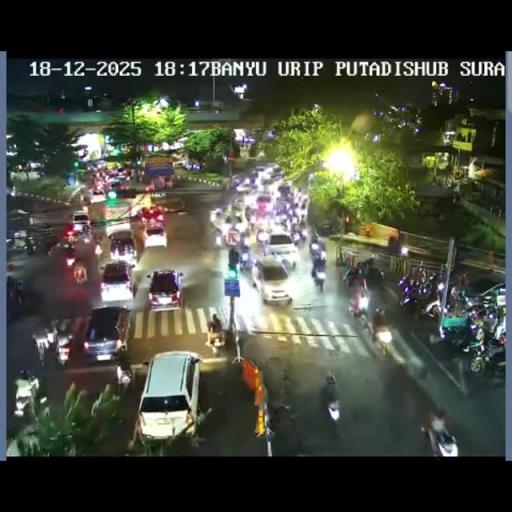Car: (135, 349, 200, 441), (78, 305, 132, 366), (98, 261, 136, 303), (146, 269, 184, 311), (261, 229, 298, 268), (108, 230, 137, 264), (143, 220, 168, 248), (152, 196, 186, 213), (139, 205, 165, 224), (71, 210, 91, 233), (254, 194, 274, 215), (260, 173, 282, 190), (318, 220, 334, 235), (90, 189, 106, 203), (110, 174, 126, 188), (236, 183, 254, 195), (254, 166, 268, 175)
Motorcycle: (399, 271, 440, 315), (466, 330, 504, 376), (421, 410, 457, 456), (440, 312, 478, 352), (14, 370, 40, 417), (274, 196, 306, 234), (320, 394, 343, 442), (53, 323, 77, 366), (32, 323, 54, 365), (347, 280, 369, 320), (370, 317, 392, 355), (114, 350, 134, 388), (268, 398, 294, 423), (462, 300, 490, 322), (362, 263, 386, 287), (342, 262, 365, 287), (448, 284, 470, 310), (207, 314, 223, 347), (490, 308, 506, 340), (238, 246, 256, 273), (359, 308, 375, 338), (59, 241, 77, 267), (40, 233, 62, 254), (234, 325, 248, 352), (312, 264, 326, 290), (62, 227, 80, 246), (234, 217, 248, 241), (413, 263, 425, 285), (14, 278, 24, 304), (309, 242, 323, 260), (228, 246, 239, 268), (290, 228, 303, 246), (74, 267, 86, 286), (24, 239, 37, 255), (94, 231, 104, 249), (214, 230, 222, 248), (83, 190, 93, 204)
